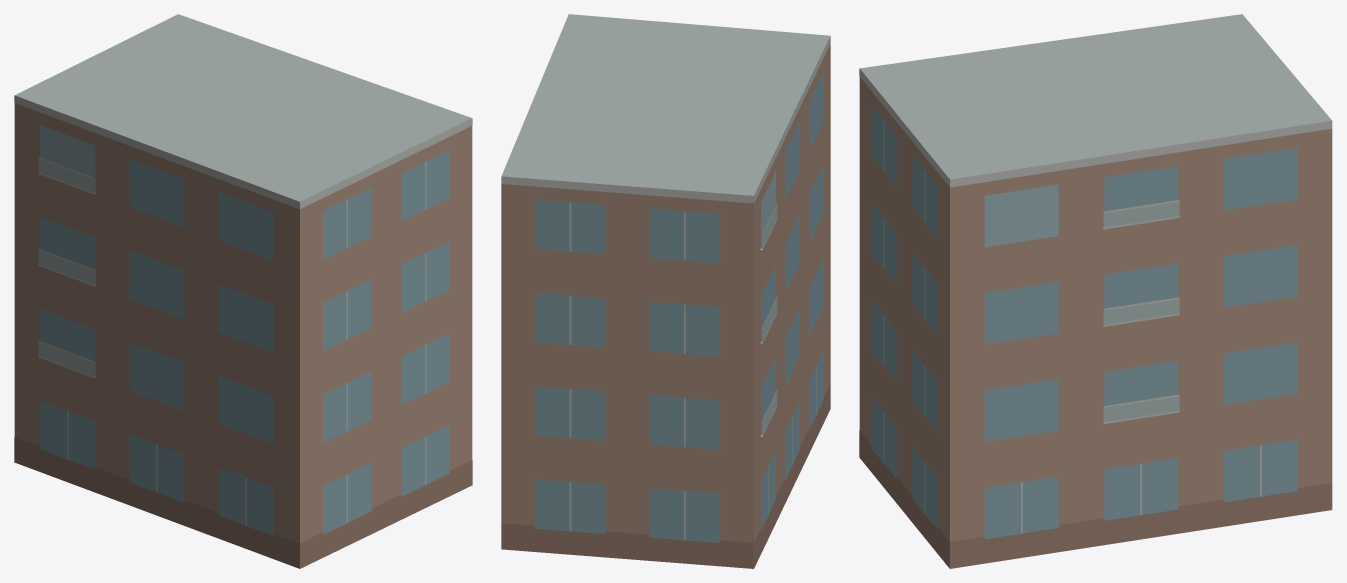
File: survey-upis-32800144.glb
3 views of the same model, side by side, from view 1: azimuth 30°, elevation 25°; view 2: azimuth 150°, elevation 25°; view 3: azimuth 270°, elevation 25° (orthographic). The views are drawn at different scales.
Parts seen in each view (by area): view 1: survey-upis-32800144.tmp; view 2: survey-upis-32800144.tmp; view 3: survey-upis-32800144.tmp.
Boxes of the visible parts, x1=… form: survey-upis-32800144.tmp: x1=14, y1=14, x2=472, y2=568; survey-upis-32800144.tmp: x1=501, y1=14, x2=830, y2=568; survey-upis-32800144.tmp: x1=859, y1=14, x2=1332, y2=568.
Size of the model in its own units: 10.95 by 11.99 by 13.21.
